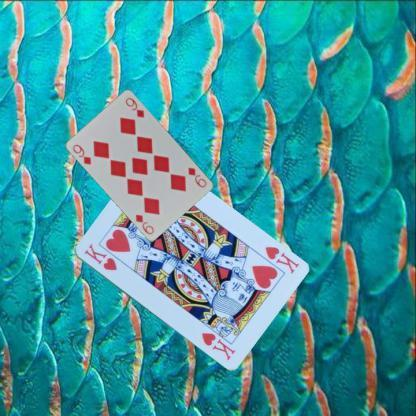9d: (185, 164, 208, 190), (70, 142, 92, 166)
Kh: (80, 240, 118, 272), (262, 244, 300, 275)
